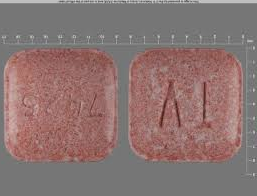Square: (3, 48, 118, 163), (129, 49, 243, 162)
